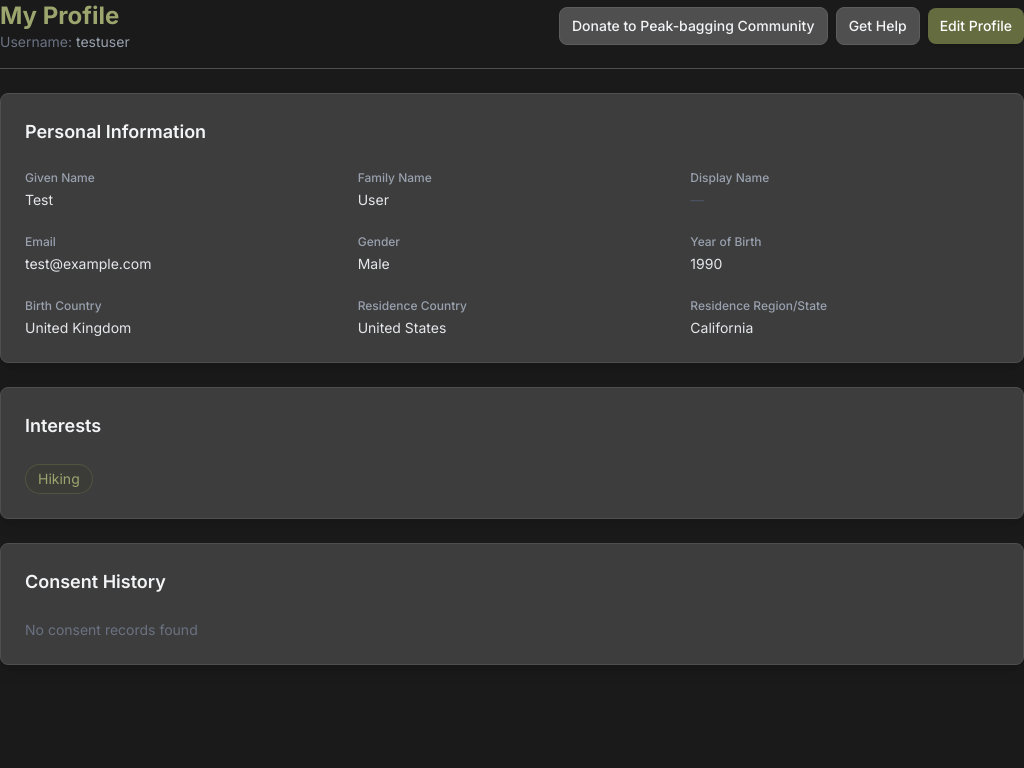
UserOwnProfile › cancels edit mode and restores original data
Click the button "Edit Profile" at (976,26), box left=928, top=8, right=1023, bottom=44
(page scrolled)
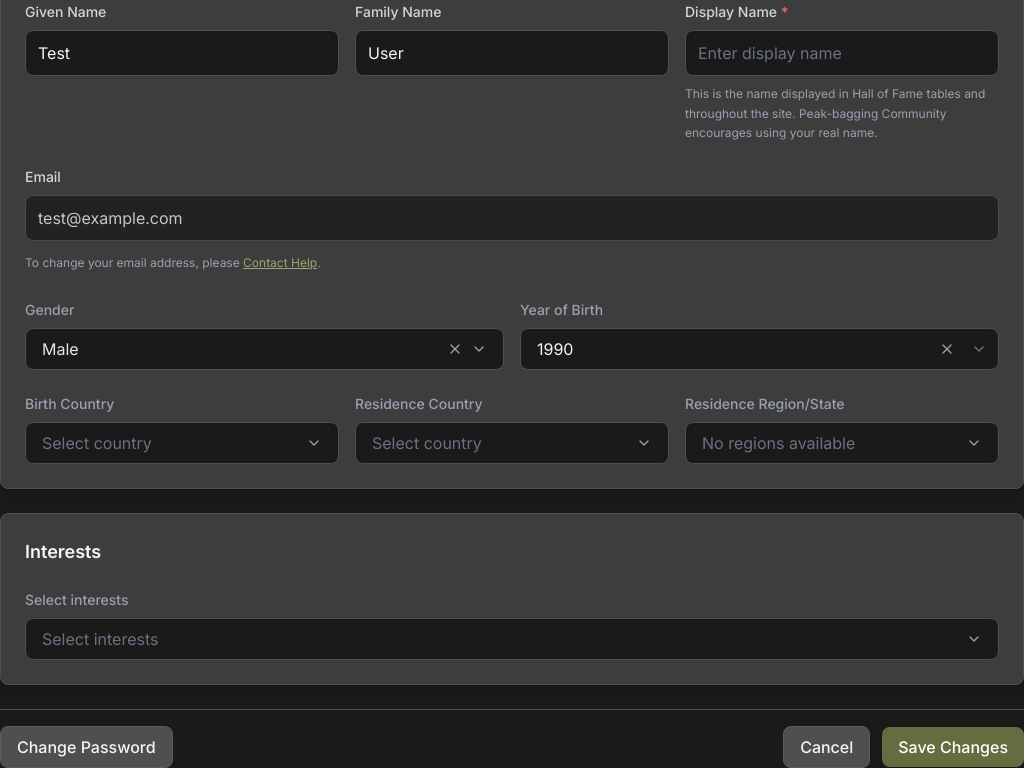
expect the field with placeholder "Enter given name" is shown: met, box left=25, top=30, right=339, bottom=76
Click the button "Cancel" at (827,747), box left=783, top=726, right=870, bottom=767
(page scrolled)
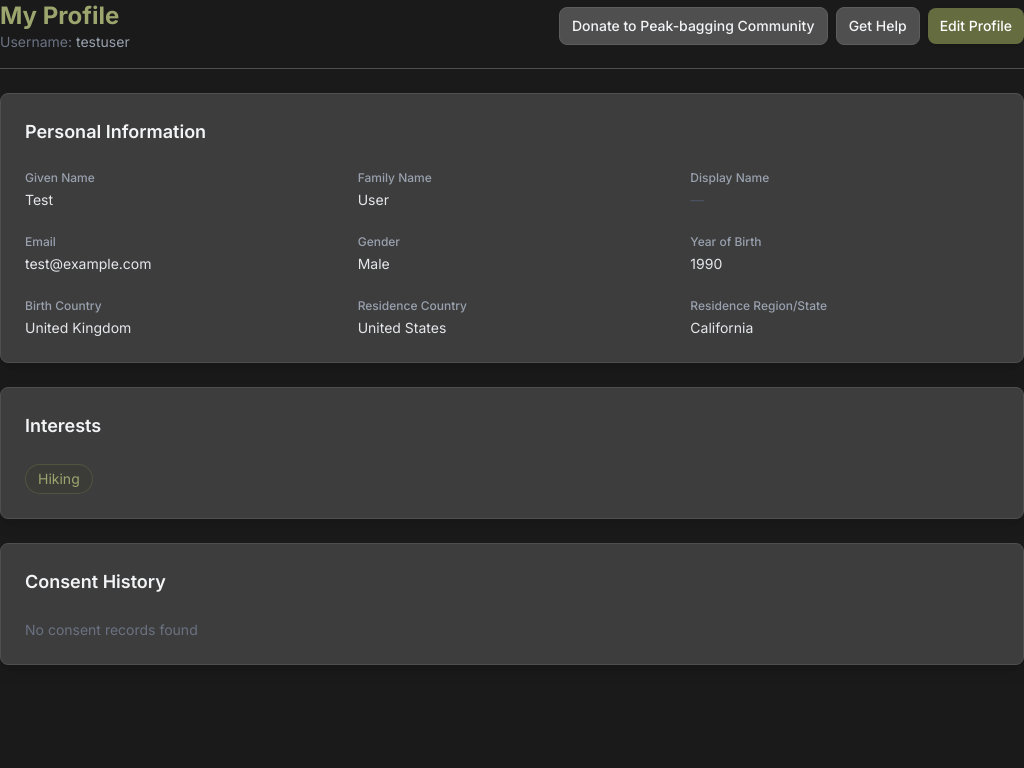
expect the button "Edit Profile" is shown: met, box left=928, top=8, right=1023, bottom=44
